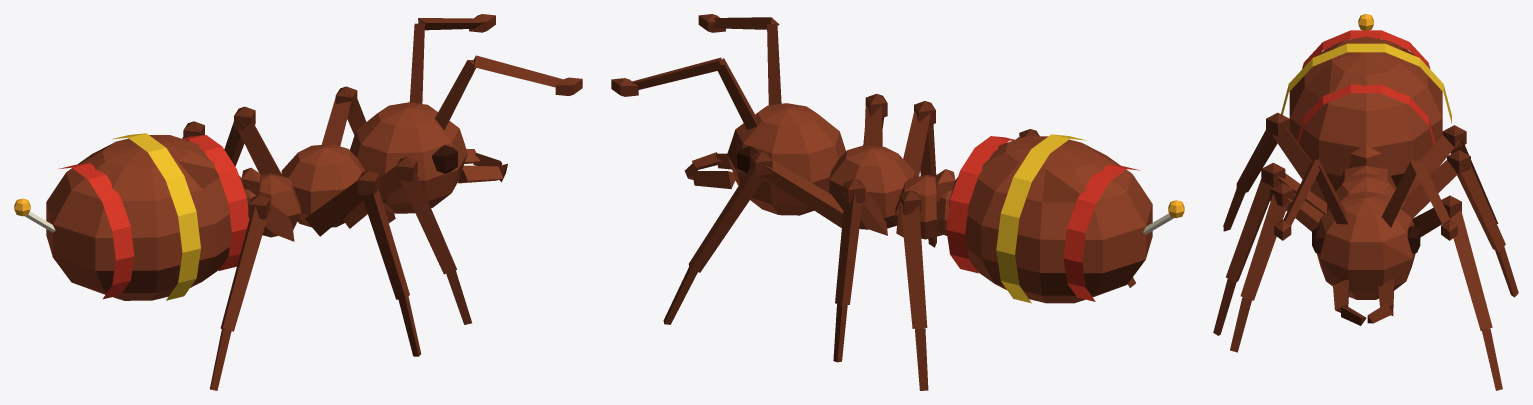
File: ants-exploder.glb
The picture shows the model from 3 angles, left to right: view 1: azimuth 30°, elevation 25°; view 2: azimuth 150°, elevation 25°; view 3: azimuth 270°, elevation 25°; orthographic projection. The views are drawn at different scales.
Bounding box in the file's own units: 14.11 × 6.12 × 7.4.
